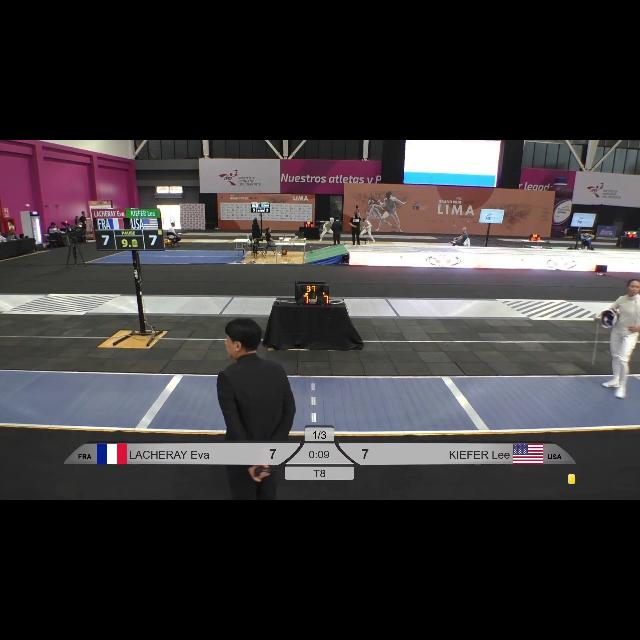blade: (586, 317, 604, 368)
